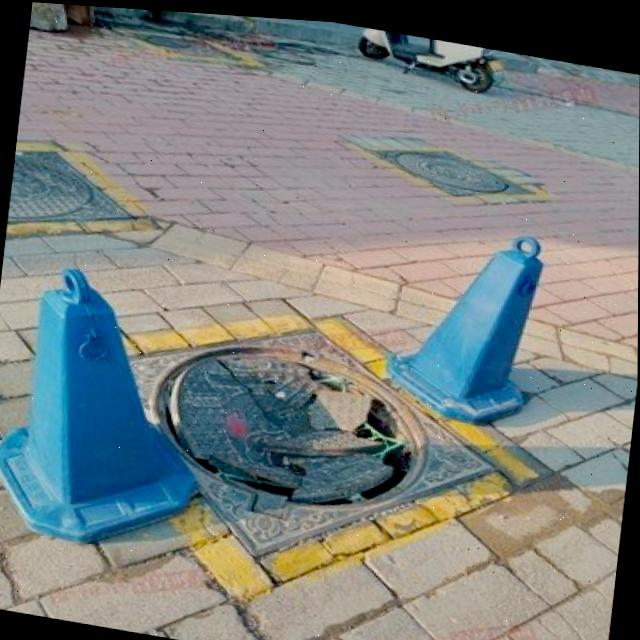manhole: (124, 296, 470, 546)
